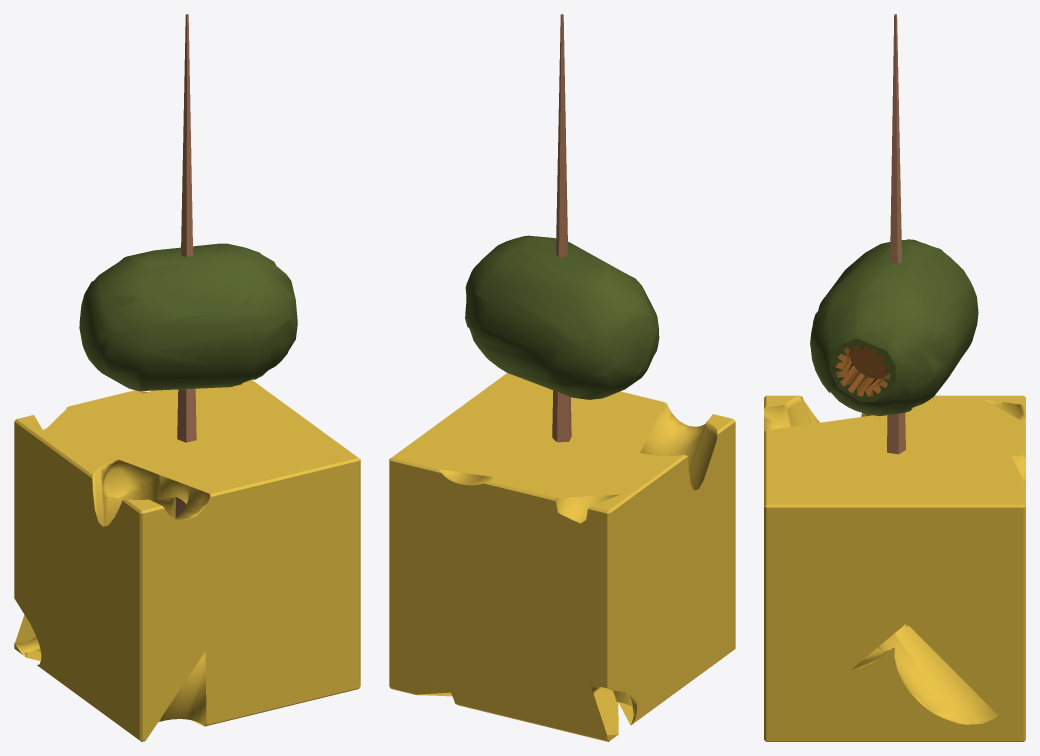
Rendered from Kanape1.fbx.
3 views of the same model, side by side, from view 1: azimuth 30°, elevation 25°; view 2: azimuth 150°, elevation 25°; view 3: azimuth 270°, elevation 25° (orthographic). The views are drawn at different scales.
Visible parts, largest first — view 1: Cube.002; view 2: Cube.002; view 3: Cube.002.
Part boxes in pixels (bbox=[...]): Cube.002: bbox=[14, 14, 360, 741]; Cube.002: bbox=[389, 14, 735, 741]; Cube.002: bbox=[764, 14, 1025, 741].
Bounding box in the file's own units: 200 × 567 × 200.
